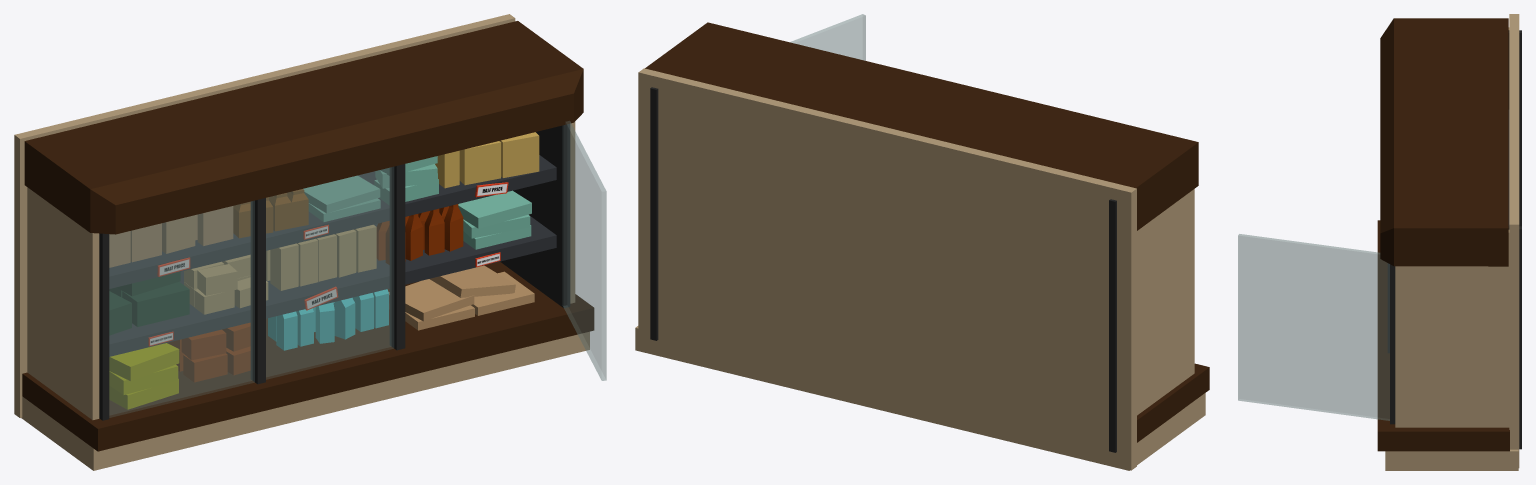
The model's file is Refrigerator_opened1.fbx.
The picture shows the model from 3 angles, left to right: view 1: azimuth 30°, elevation 25°; view 2: azimuth 150°, elevation 25°; view 3: azimuth 270°, elevation 25°; orthographic projection. The views are drawn at different scales.
Visible parts, largest first — view 1: polySurface137; view 2: polySurface137; view 3: polySurface137.
Boxes of the visible parts, x1,y1,x2,y2 form: polySurface137: (14, 14, 606, 470); polySurface137: (635, 14, 1209, 470); polySurface137: (1238, 14, 1521, 470).
Bounding box in the file's own units: 873 × 469 × 493.
Materials: 13 (3 with a texture image).
